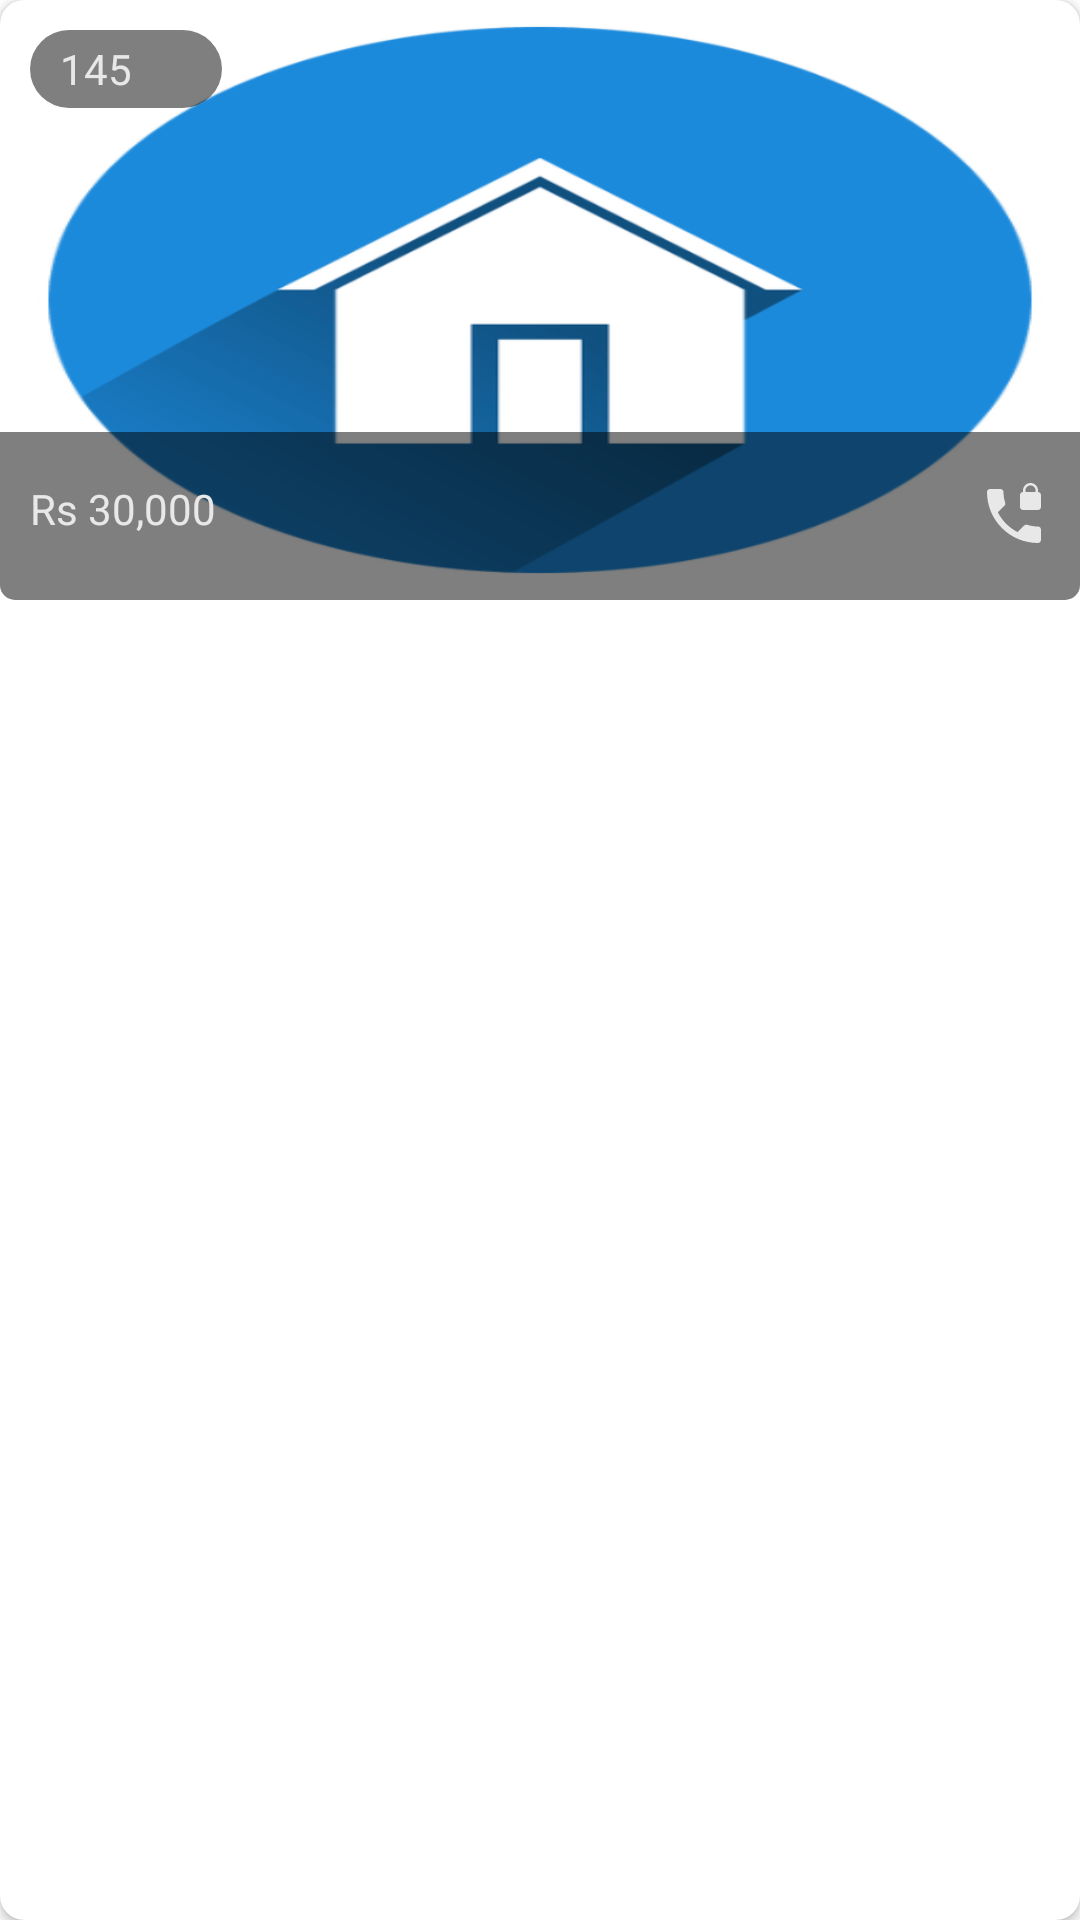

Icons on this 1080×1920 Android screen, each with the point to tap as [x,y]:
phone locked: [1014,513]
